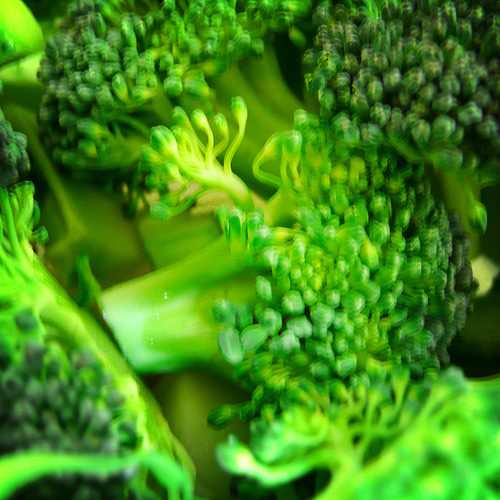broccoli: (92, 91, 481, 431), (0, 108, 198, 498), (33, 0, 302, 201), (298, 0, 498, 238), (212, 362, 498, 498)
